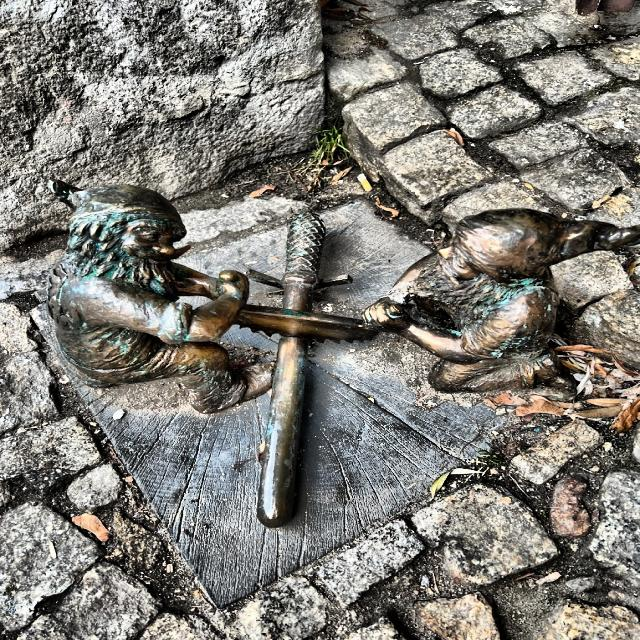Wyrostek i Zadymek: (48, 181, 638, 526)
